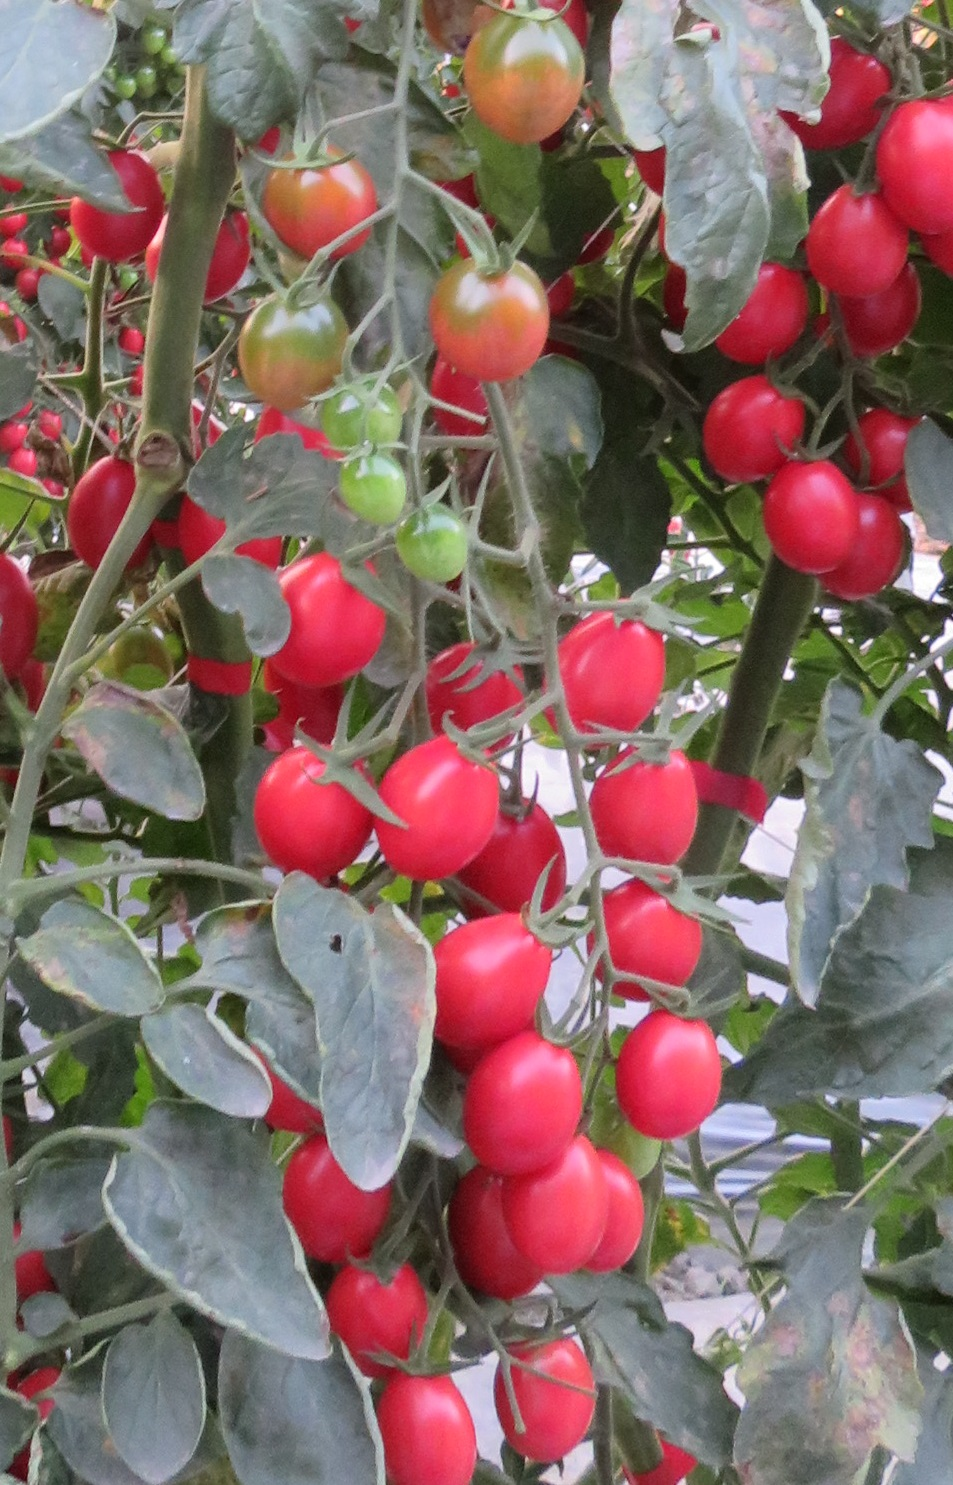green: (235, 291, 342, 428), (390, 505, 476, 596), (330, 442, 413, 536)
orange: (425, 244, 567, 404), (451, 18, 596, 159), (266, 142, 375, 263)
red: (370, 724, 502, 885), (432, 905, 570, 1055), (459, 1019, 576, 1171), (256, 742, 379, 876), (596, 730, 716, 865), (552, 602, 679, 730), (613, 996, 721, 1145), (596, 867, 710, 995), (699, 370, 815, 491), (284, 561, 393, 689), (515, 1142, 612, 1282), (464, 801, 575, 920), (287, 1149, 396, 1269), (761, 448, 858, 581), (782, 34, 891, 149), (801, 184, 901, 310), (498, 1342, 599, 1466), (418, 642, 535, 748), (378, 1367, 475, 1485), (73, 153, 170, 260), (335, 1256, 433, 1361), (724, 257, 818, 367), (873, 98, 953, 226), (68, 455, 149, 573), (832, 489, 904, 610)
